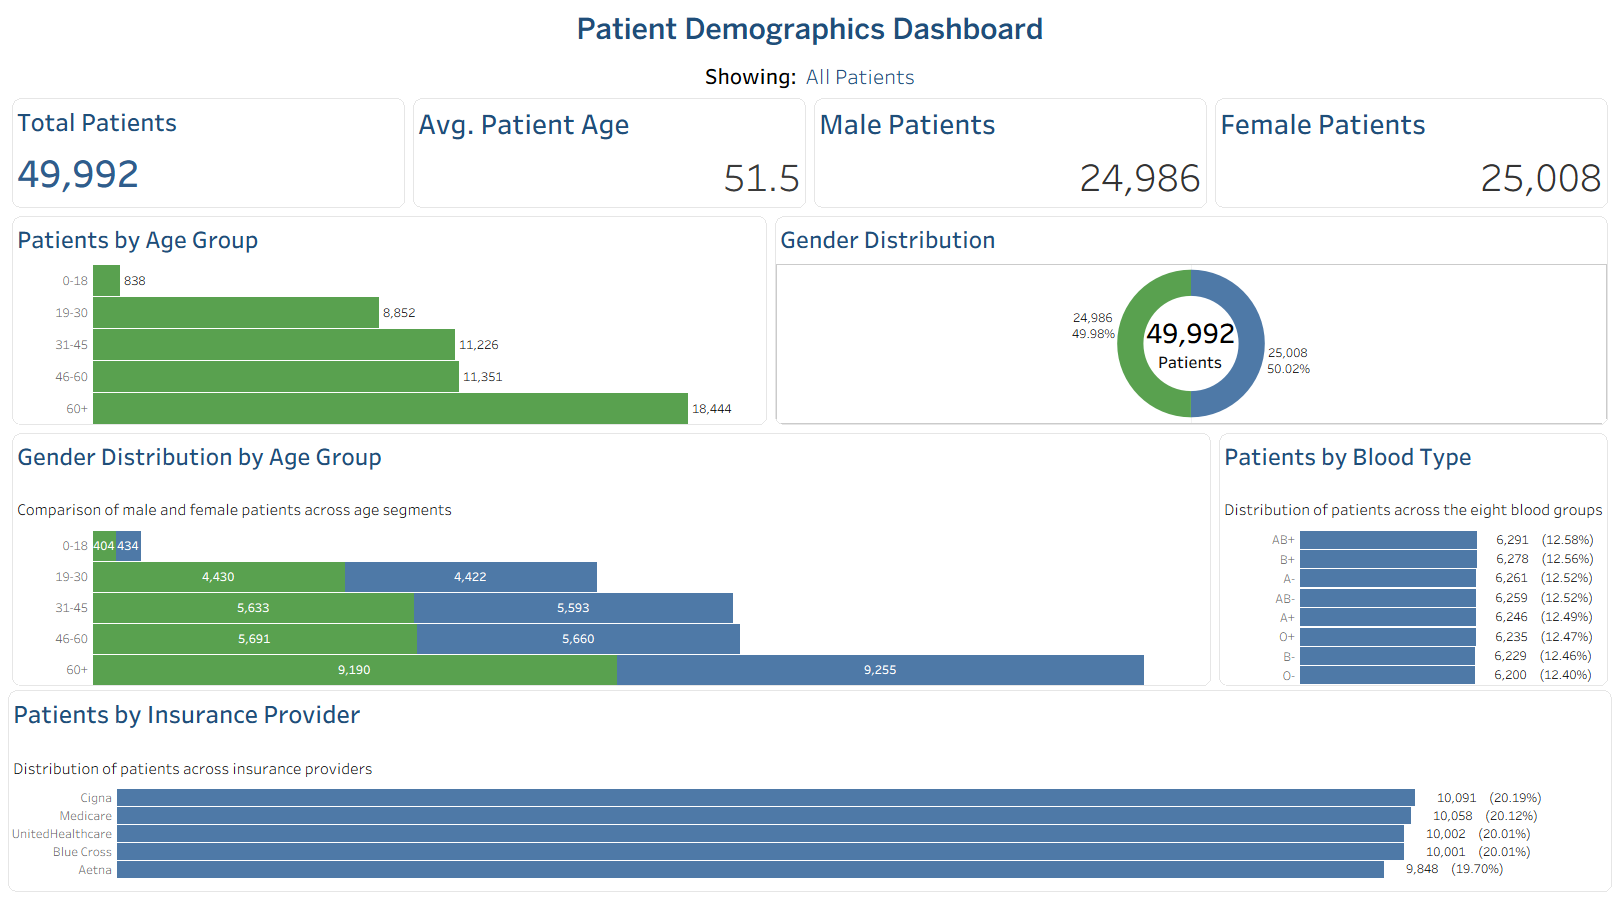

What the dashboard file says about the page in this screenshot:
{"tool":"tableau","page":{"name":"Patient Demographics Dashboard","canvas":[1620,900],"ordinal":3},"visuals":[{"type":"text","box":[8,8,1604,43.2]},{"type":"worksheet","title":"WS_Dynamic_Title","mark":"Automatic","box":[8,51.2,1604,43]},{"type":"worksheet","title":"KPI_Total_Patients","mark":"Automatic","box":[8,94,401,118]},{"type":"worksheet","title":"KPI_Average_Age","mark":"Automatic","box":[409,94,401,118]},{"type":"worksheet","title":"KPI_Male_Patients","mark":"Automatic","box":[810,94,401,118]},{"type":"worksheet","title":"KPI_Female_Patients","mark":"Automatic","box":[1211,94,401,118]},{"type":"worksheet","title":"CH_Age_Distribution","mark":"Automatic","rows":["Calculation_1312292913242112"],"cols":["patient_name"],"box":[8,212.3,763,216.7]},{"type":"worksheet","title":"CH_Gender_Distribution","mark":"Pie","cols":["Calculation_0166052402307073","Calculation_0166052402307073"],"box":[771,212.3,841,216.7]},{"type":"worksheet","title":"CH_Gender_by_Age_Group","mark":"Bar","rows":["Calculation_1312292913242112"],"cols":["patient_name"],"box":[8,429,1207,263]},{"type":"worksheet","title":"CH_Patients_by_Blood_Type","mark":"Bar","rows":["blood_type"],"cols":["patient_name"],"box":[1215,429,397,263]},{"type":"worksheet","title":"CH_Patients_by_Insurance_Provider","mark":"Automatic","rows":["insurance_provider"],"cols":["patient_name"],"box":[8,692,1604,200]}]}

Visuals, with their boxes in screenshot pixels (x1, y1, x2, y2), scaled from the page's 1620x900 canvas onto the 1620x900 screenshot:
text: box=[8, 8, 1612, 51]
"WS_Dynamic_Title" worksheet: box=[8, 51, 1612, 94]
"KPI_Total_Patients" worksheet: box=[8, 94, 409, 212]
"KPI_Average_Age" worksheet: box=[409, 94, 810, 212]
"KPI_Male_Patients" worksheet: box=[810, 94, 1211, 212]
"KPI_Female_Patients" worksheet: box=[1211, 94, 1612, 212]
"CH_Age_Distribution" worksheet: box=[8, 212, 771, 429]
"CH_Gender_Distribution" worksheet (Pie marks): box=[771, 212, 1612, 429]
"CH_Gender_by_Age_Group" worksheet (Bar marks): box=[8, 429, 1215, 692]
"CH_Patients_by_Blood_Type" worksheet (Bar marks): box=[1215, 429, 1612, 692]
"CH_Patients_by_Insurance_Provider" worksheet: box=[8, 692, 1612, 892]
